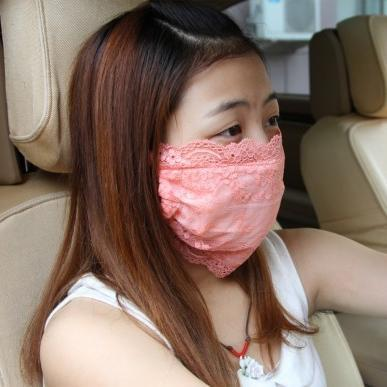OK: (141, 91, 296, 246)
